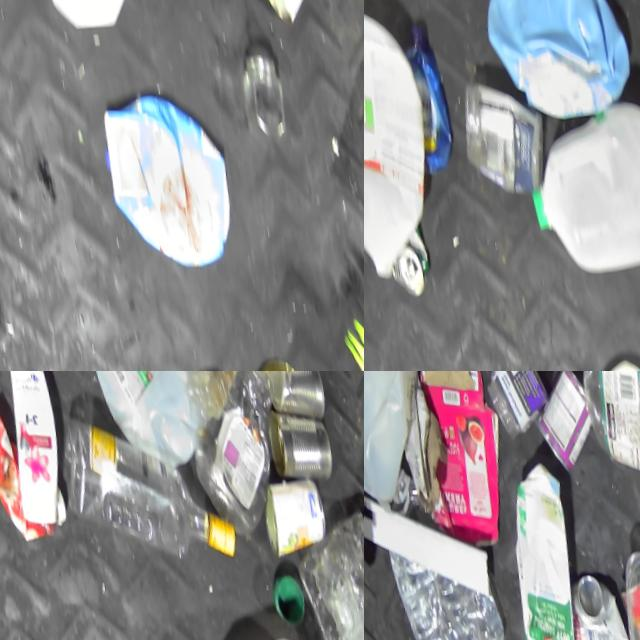can: (449, 64, 555, 201), (526, 371, 595, 468), (251, 469, 325, 555), (261, 396, 331, 483), (373, 214, 438, 297), (557, 577, 632, 640), (260, 371, 325, 412), (235, 347, 306, 371)
milk_jug: (509, 93, 640, 281), (364, 2, 444, 279), (81, 371, 220, 461), (364, 371, 431, 510)
non_white_jug: (481, 0, 632, 123)
plastic_bottle: (390, 556, 505, 640)
